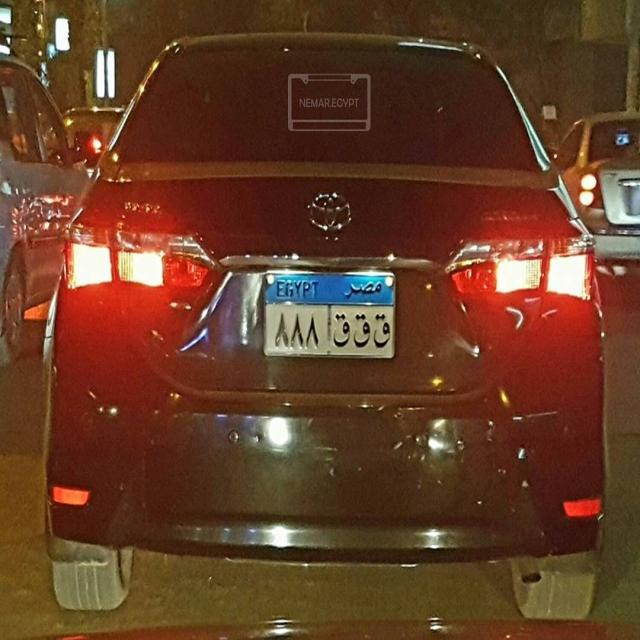License Plate: (258, 265, 402, 364)
